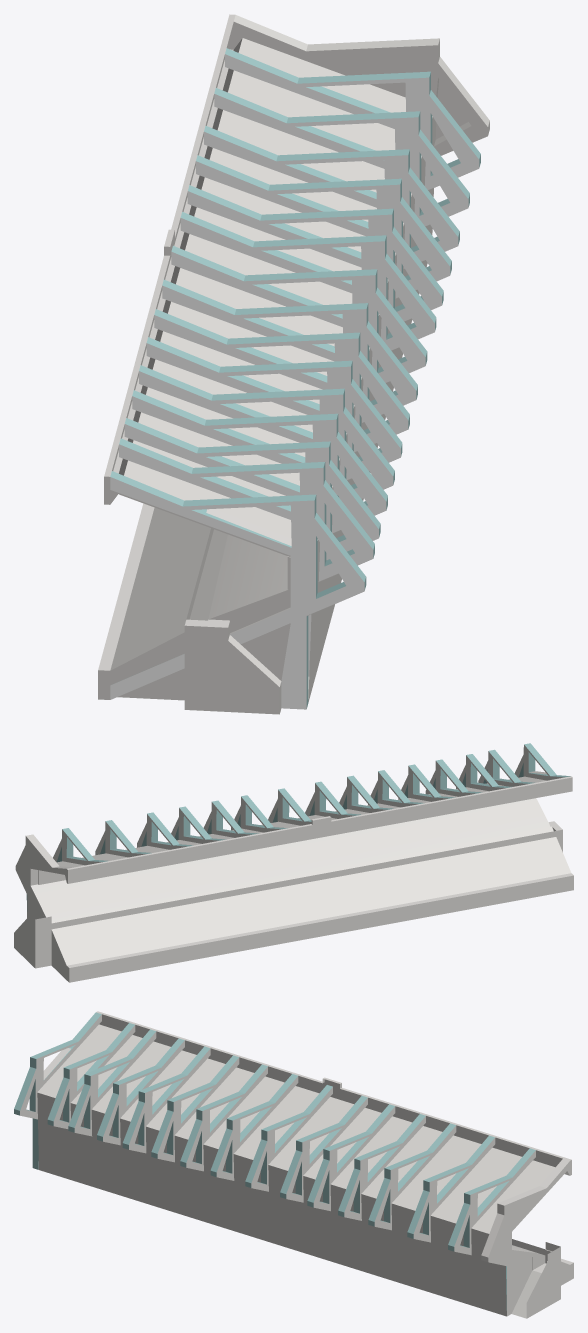
The picture shows the model from 3 angles, top to bottom: view 1: azimuth 30°, elevation 25°; view 2: azimuth 150°, elevation 25°; view 3: azimuth 270°, elevation 25°; orthographic projection. The views are drawn at different scales.
Parts seen in each view (by area): view 1: Group_001; view 2: Group_001; view 3: Group_001.
Boxes of the visible parts, box(x1,y1,x2,y2) form: Group_001: box(98, 14, 489, 714); Group_001: box(14, 743, 573, 982); Group_001: box(14, 1011, 573, 1318).
Bounding box in the file's own units: 68792 × 20235 × 82476.
